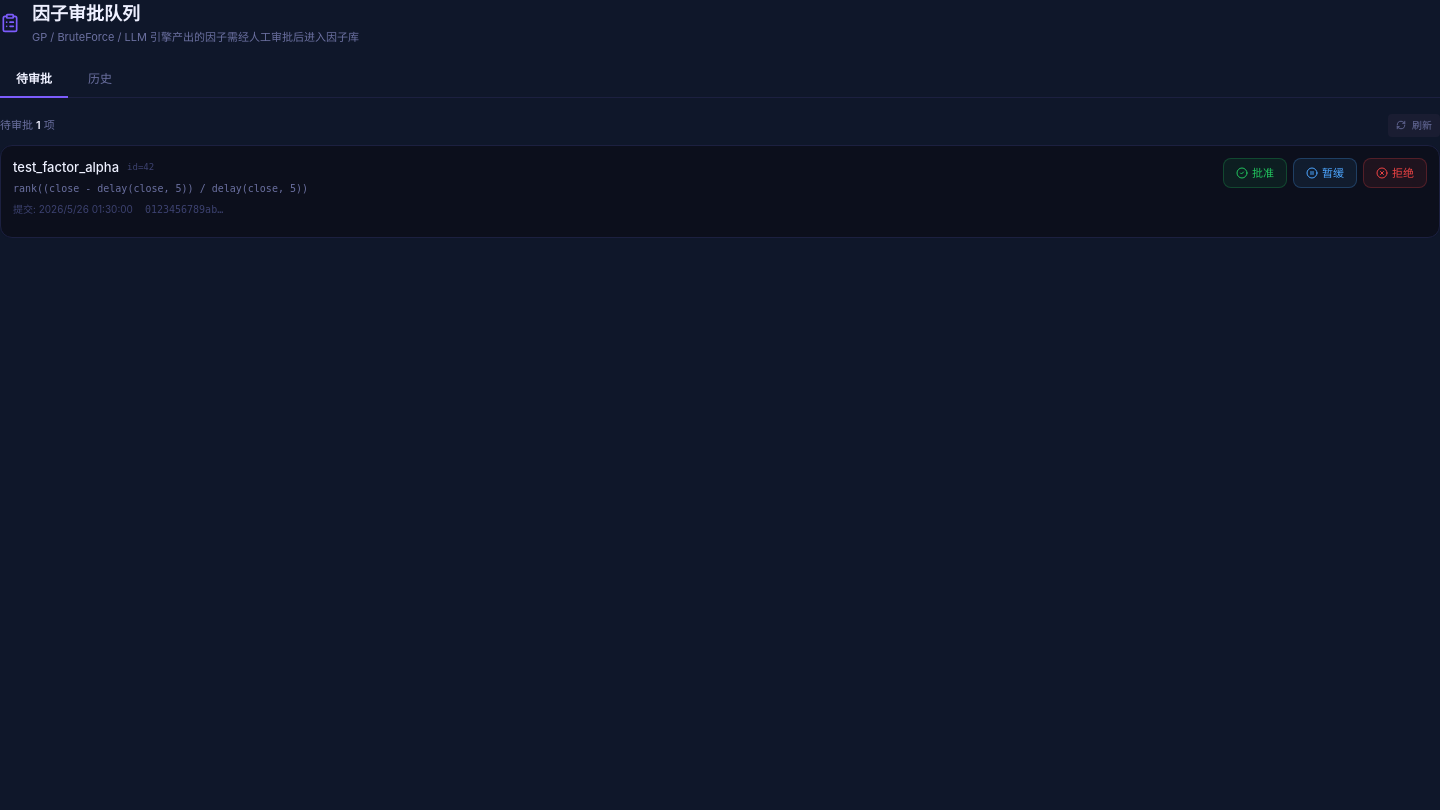
Test: ApprovalQueue — iter 136 W2-F F1 fail-loud guard › T7: detail drawer renders gate_report keys when item clicked
Expected: the text "test_factor_alpha" is shown, x1=13 y1=158 x2=119 y2=177
Note: Click the expression preview (triggers detail load)
Click the text titled "点击查看完整详情".
click(160, 188)  # box x1=13 y1=183 x2=308 y2=194
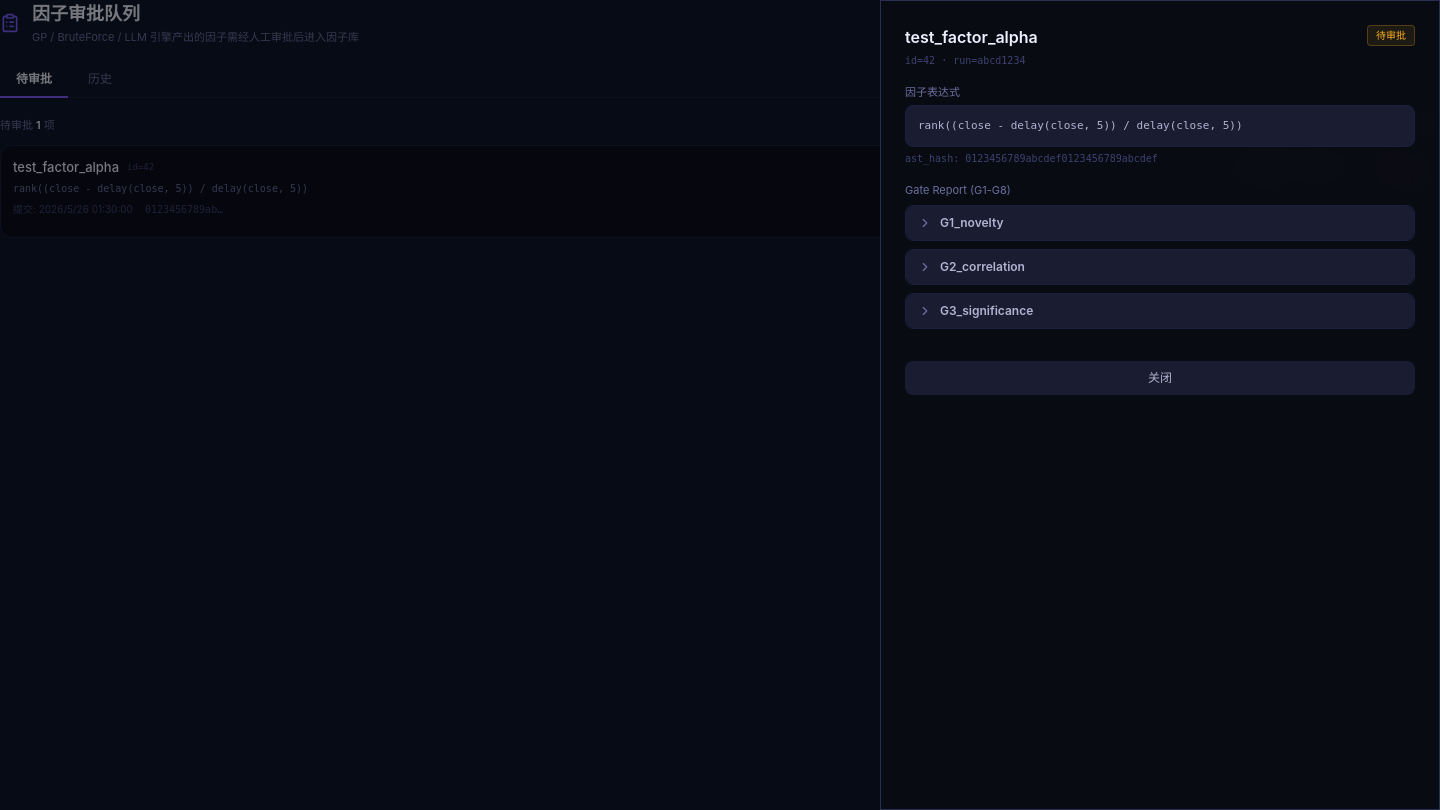
Expected: the text "G1_novelty" is shown, x1=940 y1=214 x2=1004 y2=232
Expected: the text "G2_correlation" is shown, x1=940 y1=258 x2=1025 y2=276
Expected: the text "G3_significance" is shown, x1=940 y1=302 x2=1033 y2=320
